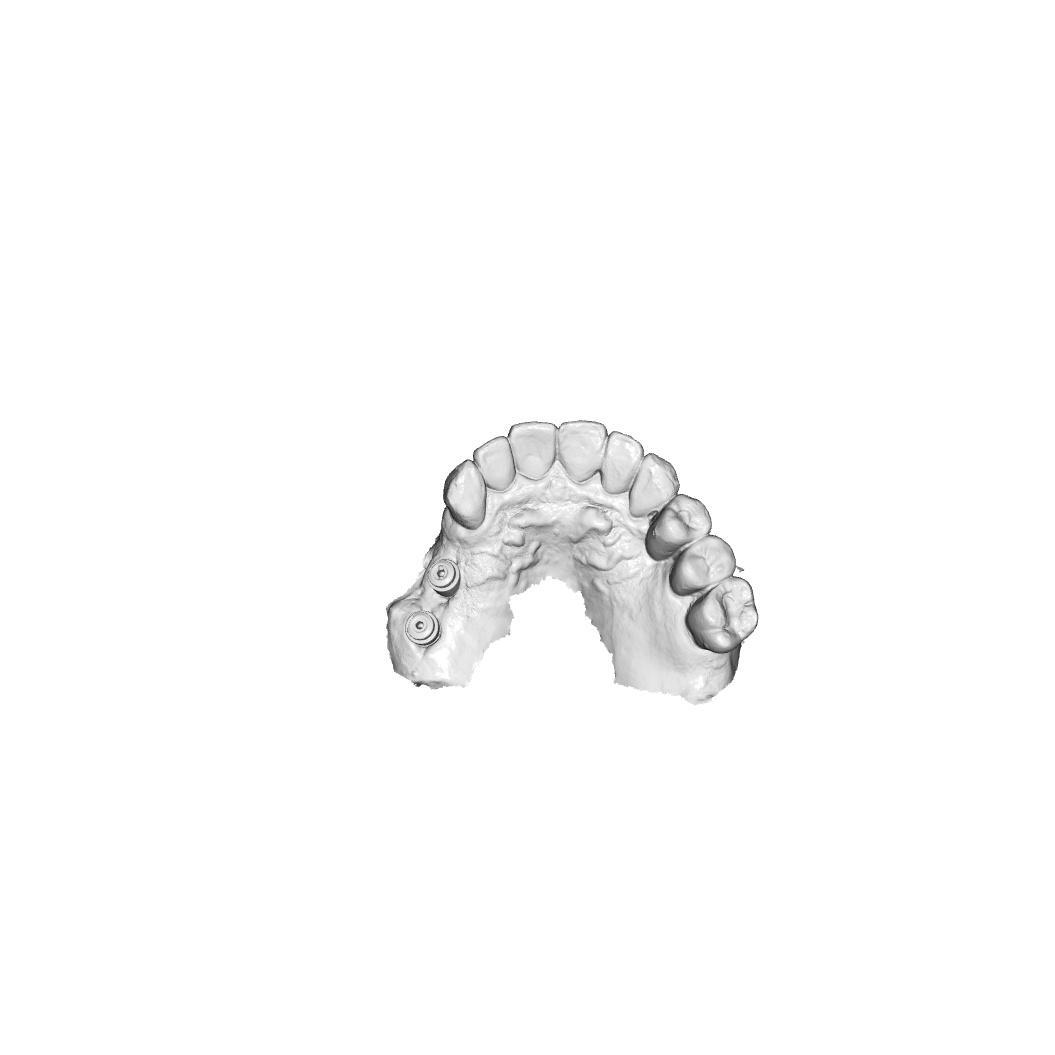canine: (628, 452, 680, 520), (442, 458, 488, 531)
implant: (403, 610, 442, 649)
implant_minus: (426, 558, 461, 599)
incisor: (557, 419, 609, 484), (508, 419, 559, 482), (599, 430, 646, 496), (472, 435, 517, 493)
molar: (684, 574, 760, 655)
premolar: (644, 492, 713, 562), (668, 534, 737, 597)
